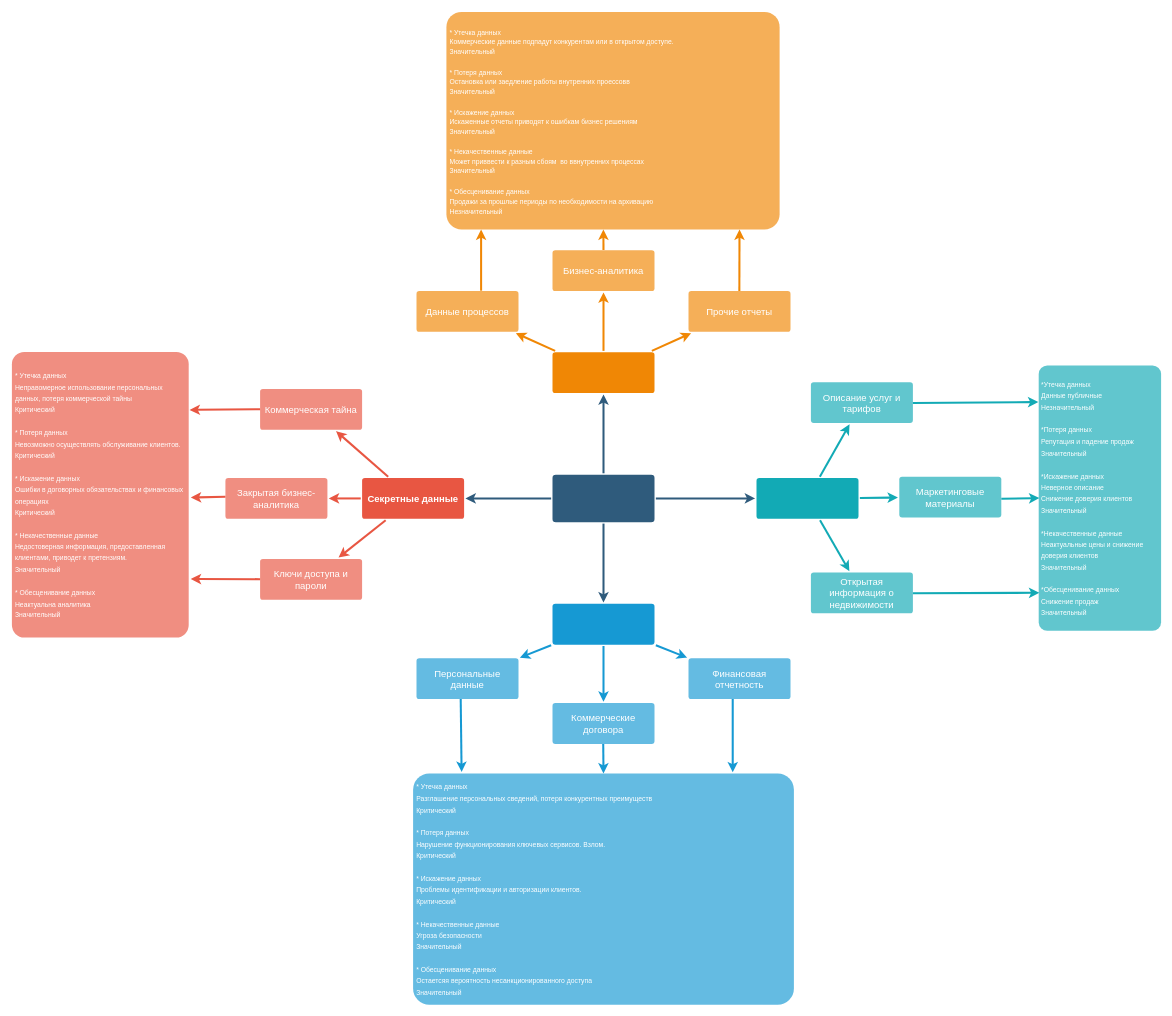
Some shapes in this 1172 by 1016 pixel diagram are drawn without their labels. Here are the shapes that lost their labels. From the top down, the box of each, then its label:
(552, 352, 654, 393): Внутренние данные
(552, 474, 654, 522): Безопасность данных
(756, 478, 858, 518): Публичные данные
(552, 604, 654, 644): Конфиденциальные данные
